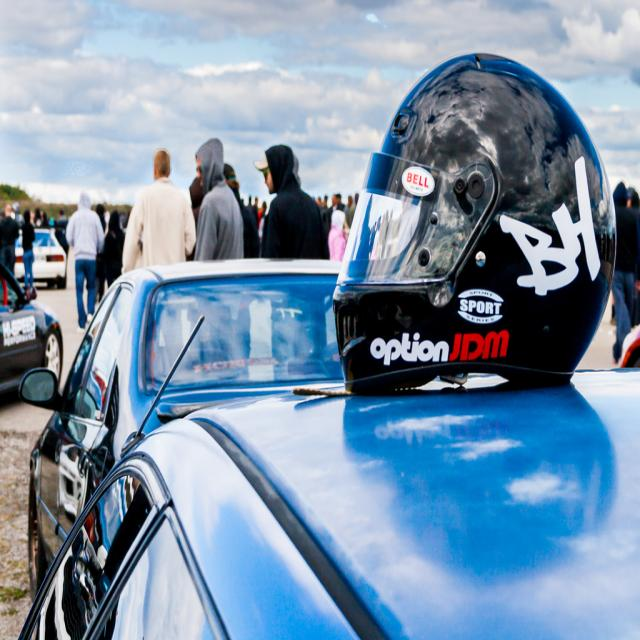other: (20, 258, 342, 602), (0, 260, 62, 390), (13, 228, 66, 288), (257, 216, 267, 256)
